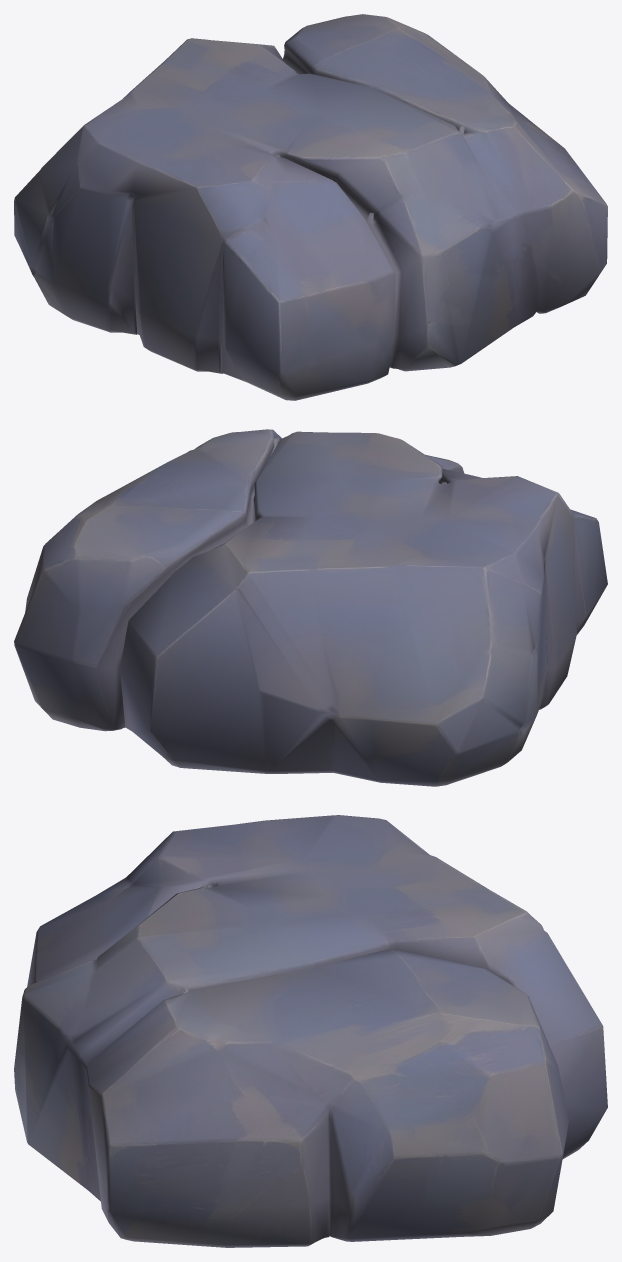
3 renders of one model, top to bottom at view 1: azimuth 30°, elevation 25°; view 2: azimuth 150°, elevation 25°; view 3: azimuth 270°, elevation 25°, orthographic. The views are drawn at different scales.
Visible parts, largest first — view 1: tripo_node_c850ab9f-b7e2-46c9-99f8-ecf6556352ec; view 2: tripo_node_c850ab9f-b7e2-46c9-99f8-ecf6556352ec; view 3: tripo_node_c850ab9f-b7e2-46c9-99f8-ecf6556352ec.
Part boxes in pixels (x1,y1,x2,y2): tripo_node_c850ab9f-b7e2-46c9-99f8-ecf6556352ec: (14, 14, 607, 400); tripo_node_c850ab9f-b7e2-46c9-99f8-ecf6556352ec: (14, 429, 607, 786); tripo_node_c850ab9f-b7e2-46c9-99f8-ecf6556352ec: (14, 815, 607, 1247).
Size of the model in its own units: 0.998 by 0.3809 by 0.9785.
1 material, 1 textured.
